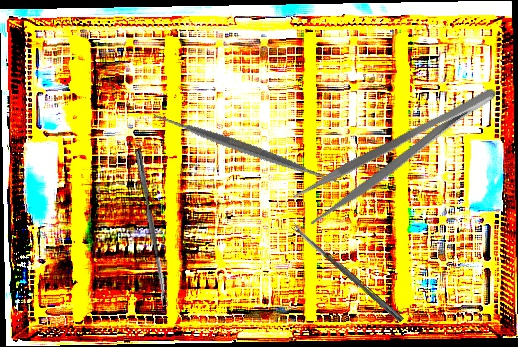Dressing Forceps: (289, 81, 511, 229)
Spatula Surgical: (149, 51, 344, 247)
Surgical Spoon: (290, 222, 405, 323), (133, 148, 169, 307)
